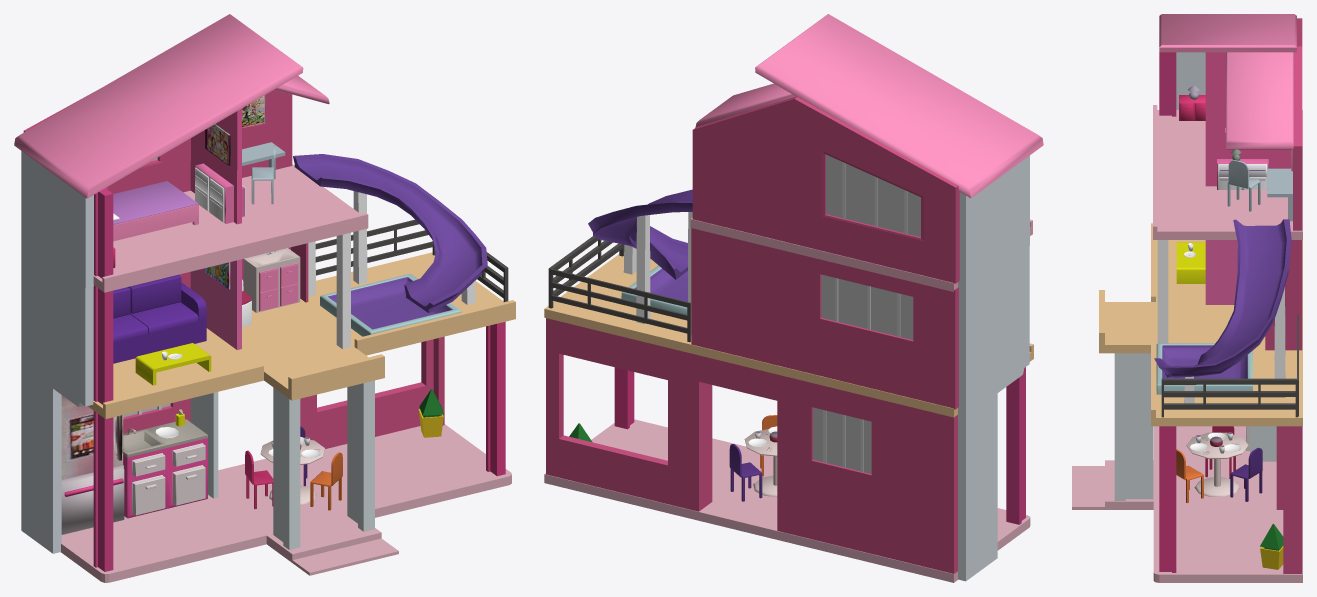
File: mainHouse.obj
3 views of the same model, side by side, from view 1: azimuth 30°, elevation 25°; view 2: azimuth 150°, elevation 25°; view 3: azimuth 270°, elevation 25° (orthographic). The views are drawn at different scales.
Visible parts, largest first — view 1: Cube_Cube.001, Cube.004_Cube.005, Cube.003_Cube.004, Cube.001_Cube.002, Cube.002_Cube.003, BarbieEvi_Cube.049, Plane, Cube.020_Cube.022, Cube.021_Cube.023, Cube.008_Cube.067, Cube.013_Cube.015, Cube.010_Cube.011 (+27 smaller); view 2: BarbieEvi_Cube.049, Cube.004_Cube.005, Cube.003_Cube.004, Cube_Cube.001, Cube.001_Cube.002, Plane.001, Plane.002, Plane, Cube.053_Cube.061, Cube.010_Cube.011, Plane.003, Cube.002_Cube.003 (+7 smaller); view 3: Cube_Cube.001, Cube.001_Cube.002, Cube.002_Cube.003, Plane, BarbieEvi_Cube.049, Cube.040_Cube.044, Cube.004_Cube.005, Cube.052_Cube.059, Cube.039_Cube.043, Cube.054_Cube.064, Cube.049_Cube.055, Cube.008_Cube.067 (+18 smaller).
Boxes of the visible parts, left/top/right/bottom form: Cube_Cube.001: left=61, top=424, right=511, bottom=582; Cube.004_Cube.005: left=14, top=14, right=303, bottom=198; Cube.003_Cube.004: left=21, top=151, right=93, bottom=553; Cube.001_Cube.002: left=88, top=252, right=515, bottom=419; Cube.002_Cube.003: left=93, top=164, right=368, bottom=292; BarbieEvi_Cube.049: left=23, top=89, right=444, bottom=448; Plane: left=293, top=154, right=487, bottom=312; Cube.020_Cube.022: left=123, top=419, right=207, bottom=518; Cube.021_Cube.023: left=61, top=395, right=124, bottom=534; Cube.008_Cube.067: left=320, top=274, right=461, bottom=336; Cube.013_Cube.015: left=113, top=181, right=198, bottom=241; Cube.010_Cube.011: left=93, top=411, right=113, bottom=571; BarbieEvi_Cube.049: left=546, top=96, right=959, bottom=573; Cube.004_Cube.005: left=755, top=14, right=1043, bottom=198; Cube.003_Cube.004: left=958, top=155, right=1029, bottom=581; Cube_Cube.001: left=544, top=419, right=1030, bottom=582; Cube.001_Cube.002: left=544, top=254, right=1033, bottom=417; Plane.001: left=826, top=154, right=920, bottom=237; Plane.002: left=821, top=274, right=913, bottom=339; Plane: left=588, top=189, right=692, bottom=279; Cube.053_Cube.061: left=549, top=268, right=690, bottom=342; Cube.010_Cube.011: left=1006, top=367, right=1025, bottom=524; Plane.003: left=813, top=407, right=871, bottom=473; Cube.002_Cube.003: left=690, top=218, right=1032, bottom=291; Cube_Cube.001: left=1072, top=426, right=1302, bottom=582; Cube.001_Cube.002: left=1099, top=223, right=1302, bottom=426; Cube.002_Cube.003: left=1153, top=105, right=1302, bottom=239; Plane: left=1154, top=219, right=1291, bottom=377; BarbieEvi_Cube.049: left=1265, top=18, right=1302, bottom=573; Cube.040_Cube.044: left=1226, top=52, right=1293, bottom=149; Cube.004_Cube.005: left=1159, top=14, right=1296, bottom=52; Cube.052_Cube.059: left=1125, top=353, right=1153, bottom=499; Cube.039_Cube.043: left=1205, top=52, right=1291, bottom=186; Cube.054_Cube.064: left=1161, top=378, right=1297, bottom=417; Cube.049_Cube.055: left=1159, top=426, right=1176, bottom=572; Cube.008_Cube.067: left=1156, top=343, right=1252, bottom=394.
Size of the model in its own units: 10.32 by 10.84 by 5.14.
